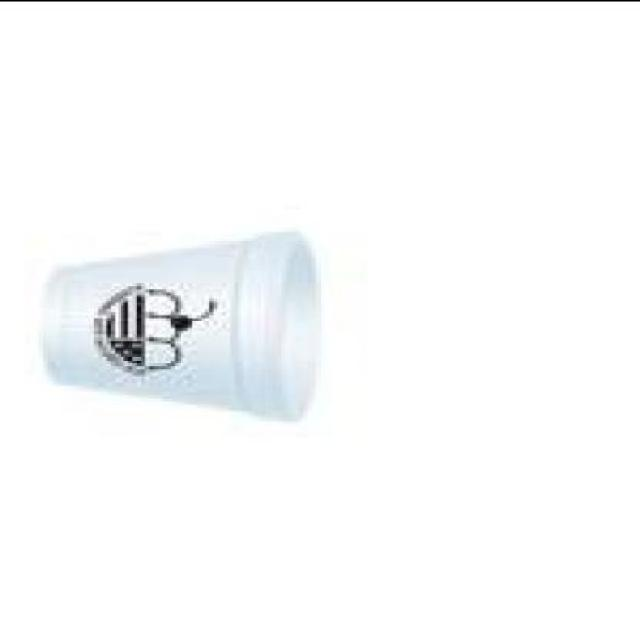PAPER: (47, 238, 324, 425)
